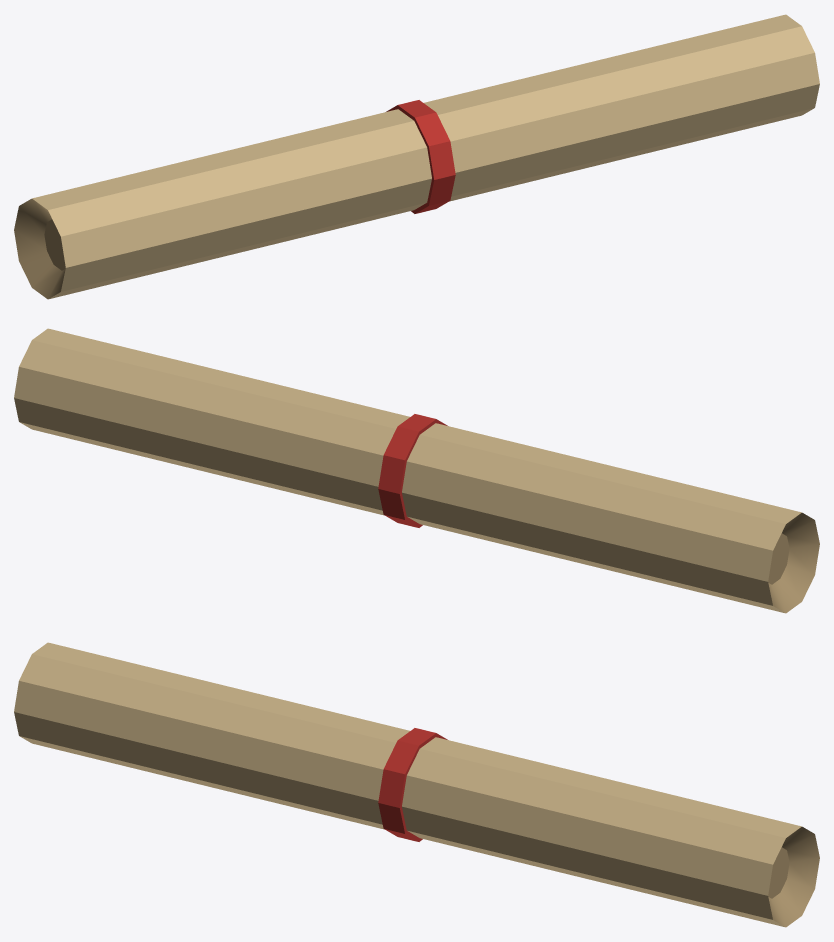
File: SM_Map_Rolled.glb
The picture shows the model from 3 angles, top to bottom: view 1: azimuth 30°, elevation 25°; view 2: azimuth 150°, elevation 25°; view 3: azimuth 330°, elevation 25°; orthographic projection.
Parts seen in each view (by area): view 1: SM_Map_Rolled; view 2: SM_Map_Rolled; view 3: SM_Map_Rolled.
Part boxes in pixels (x1,y1,x2,y2): SM_Map_Rolled: (14, 14, 819, 299); SM_Map_Rolled: (14, 328, 819, 613); SM_Map_Rolled: (14, 642, 819, 927).
Bounding box in the file's own units: 0.42 × 0.0514 × 0.054.
1 material, 1 textured.
